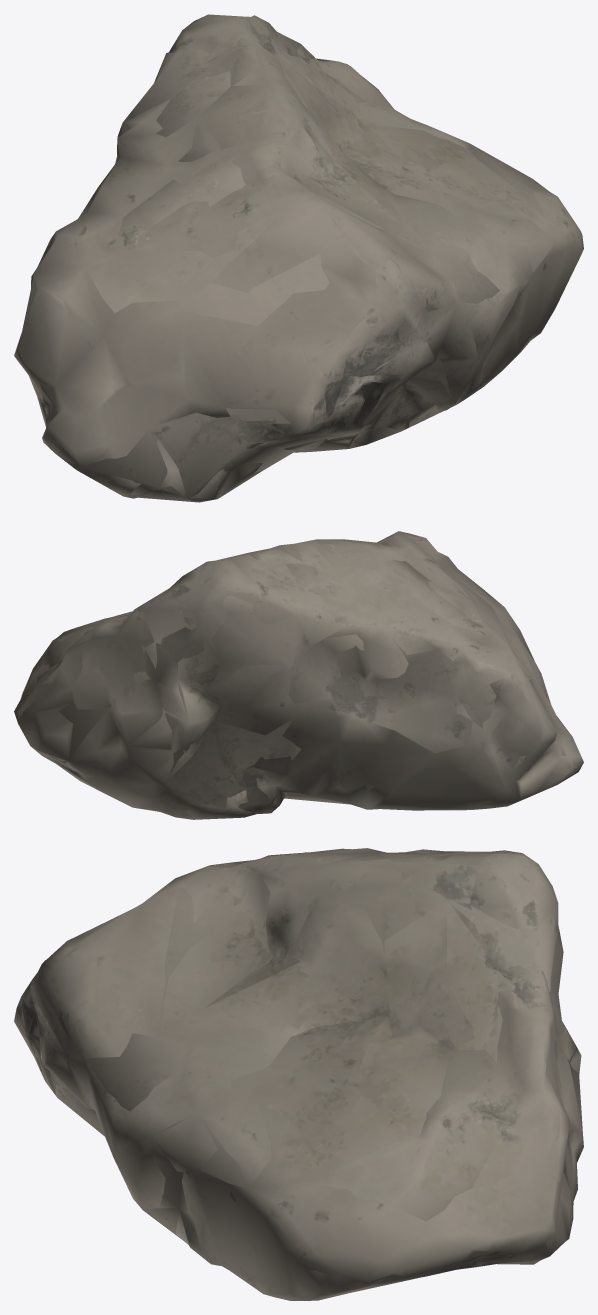
The model's file is moon_rock_03.glb.
The picture shows the model from 3 angles, top to bottom: view 1: azimuth 30°, elevation 25°; view 2: azimuth 150°, elevation 25°; view 3: azimuth 270°, elevation 25°; orthographic projection. The views are drawn at different scales.
Parts seen in each view (by area): view 1: moon_rock_03_LOD0 (×2); view 2: moon_rock_03_LOD0 (×2); view 3: moon_rock_03_LOD0 (×2).
Part boxes in pixels (x1,y1,x2,y2): moon_rock_03_LOD0 (×2): (14,14,583,502); moon_rock_03_LOD0 (×2): (14,531,583,819); moon_rock_03_LOD0 (×2): (14,848,583,1300).
Size of the model in its own units: 0.112 by 0.0582 by 0.0861.
1 material, 1 textured.
